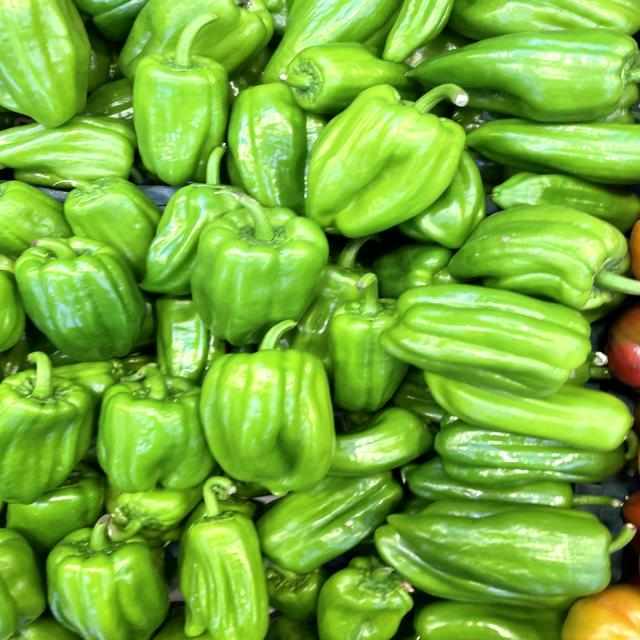bell pepper: (303, 79, 497, 238), (376, 273, 613, 391), (203, 312, 352, 496), (184, 185, 336, 351), (460, 188, 640, 313), (8, 230, 159, 366), (119, 11, 237, 179)
